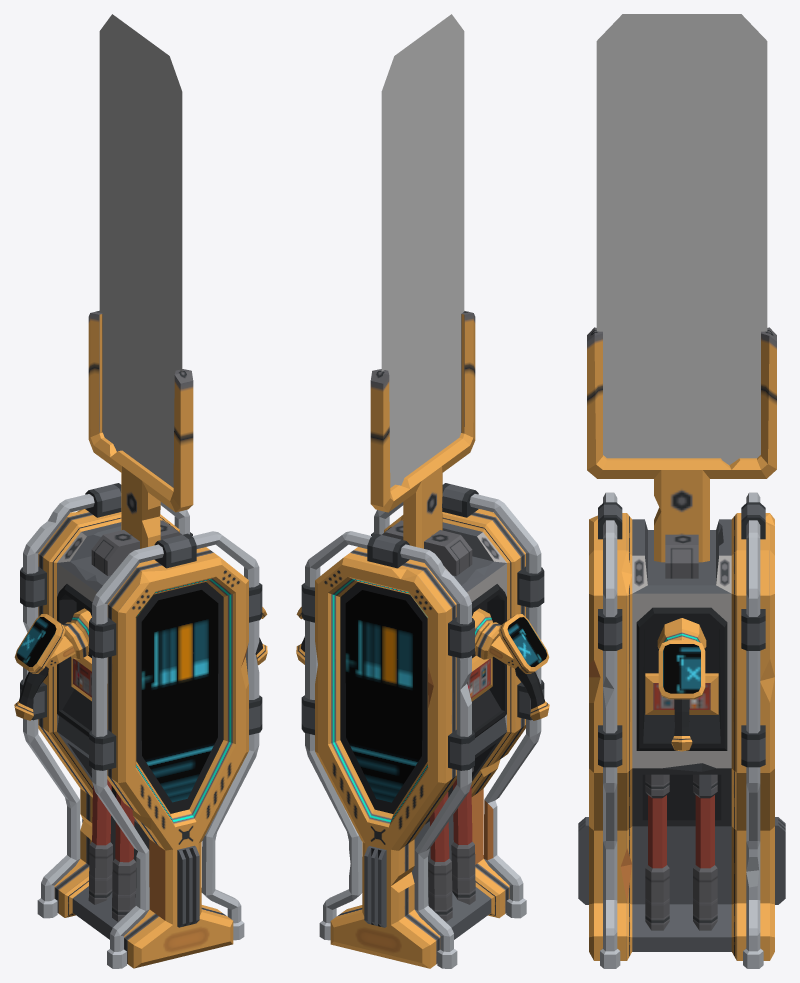
The model's file is SM_Prop_Charge_Station_01.fbx.
3 views of the same model, side by side, from view 1: azimuth 30°, elevation 25°; view 2: azimuth 150°, elevation 25°; view 3: azimuth 270°, elevation 25° (orthographic). The views are drawn at different scales.
Visible parts, largest first — view 1: SM_Prop_Charge_Station_01; view 2: SM_Prop_Charge_Station_01; view 3: SM_Prop_Charge_Station_01.
Boxes of the visible parts, x1,y1,x2,y2 form: SM_Prop_Charge_Station_01: (14, 14, 267, 968); SM_Prop_Charge_Station_01: (296, 14, 549, 968); SM_Prop_Charge_Station_01: (578, 14, 785, 968).
Bounding box in the file's own units: 131 × 441 × 89.96.
